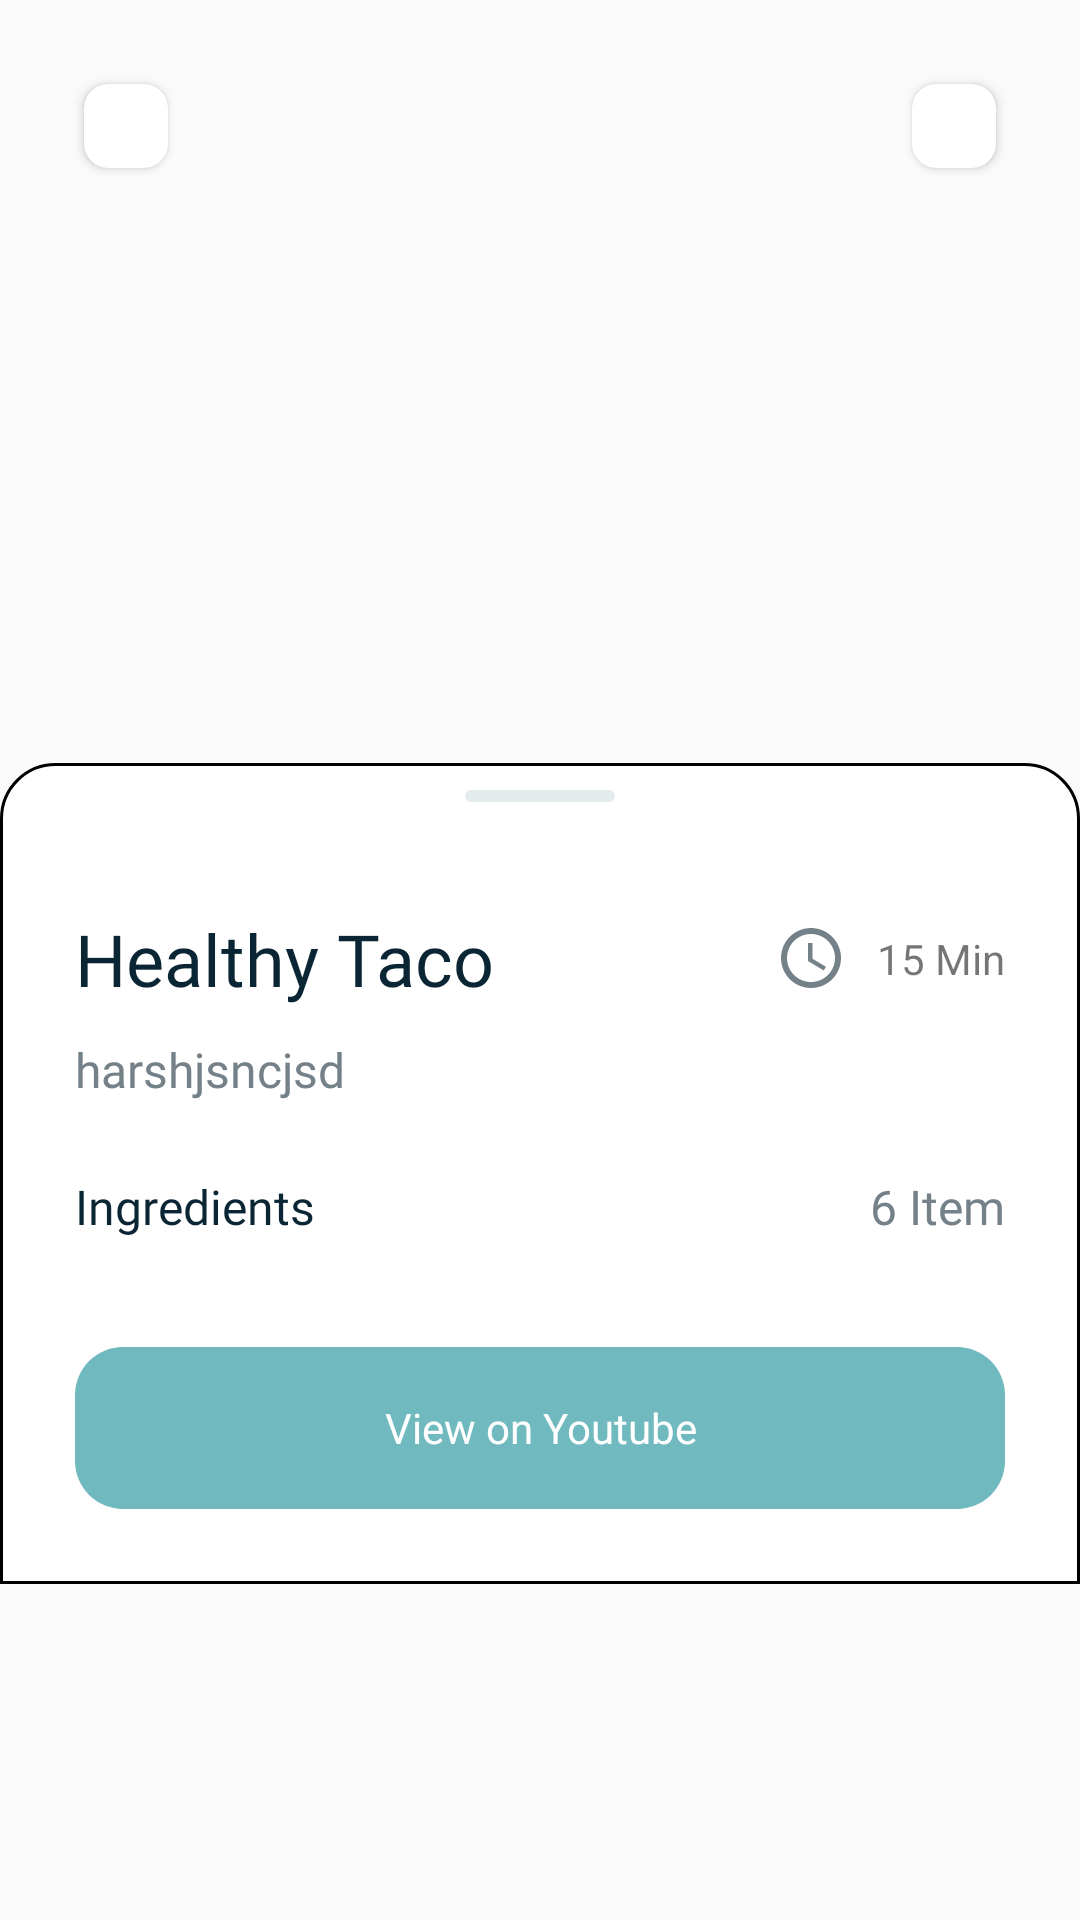

Named icons in this screenshot (1080px×1920px) and their bounding boxes, (x1, y1, x2, y2):
access time: (781, 928, 841, 988)
